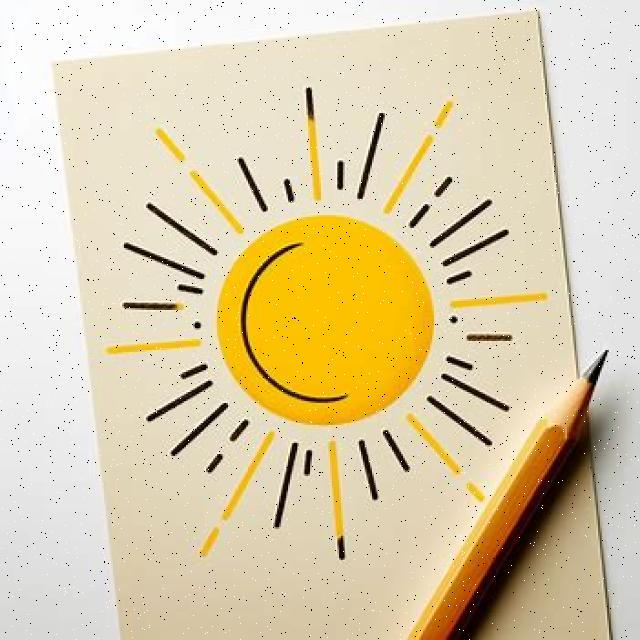Circle: (217, 214, 435, 424)
